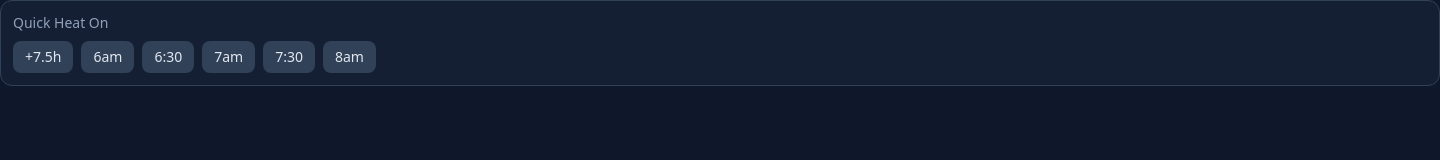
QuickSchedulePanel › loading state › disables button while scheduling
Click the button "6am": (108, 57) [81,41,134,73]
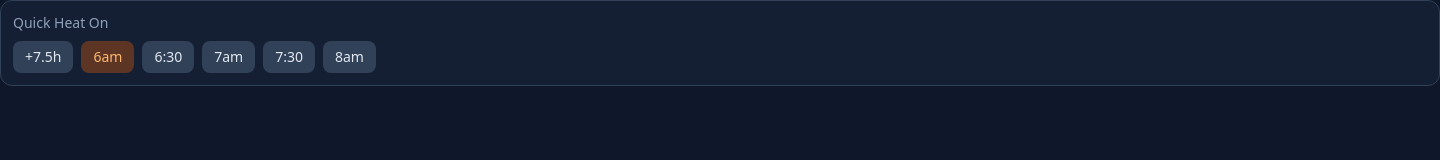
Result: the button "6am" is disabled at [81,41,134,73]
